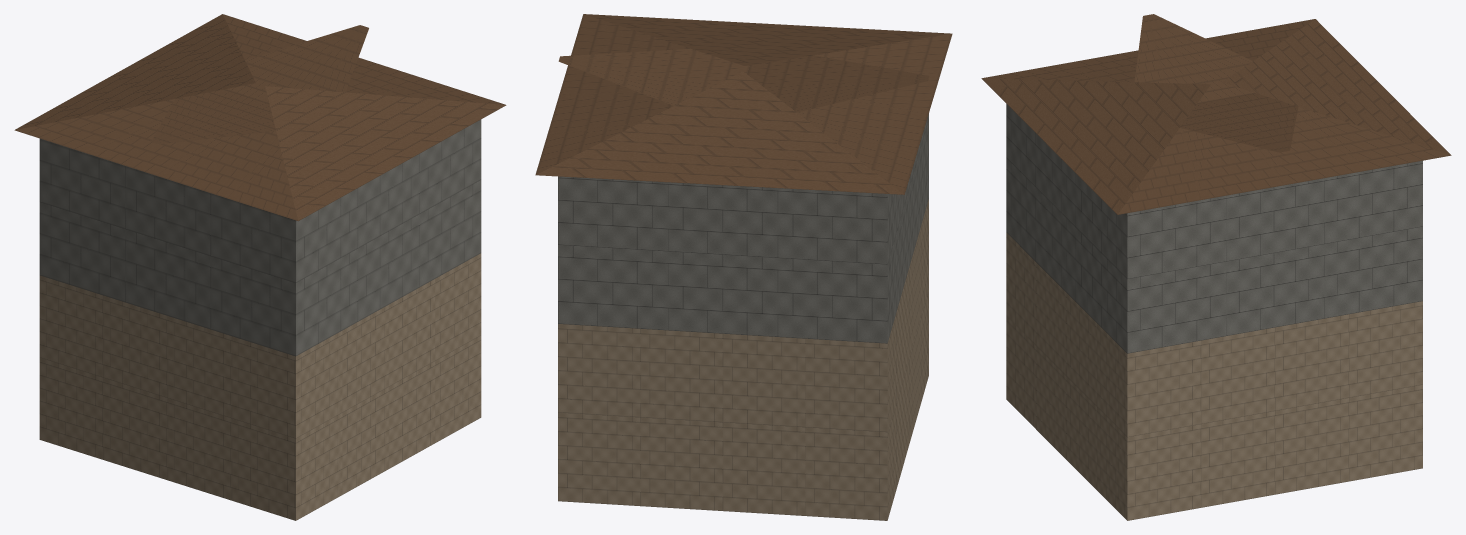
Rendered from bld_c40_32_293.gltf.
The picture shows the model from 3 angles, left to right: view 1: azimuth 30°, elevation 25°; view 2: azimuth 150°, elevation 25°; view 3: azimuth 270°, elevation 25°; orthographic projection. The views are drawn at different scales.
Parts seen in each view (by area): view 1: bld_c40_32_293; view 2: bld_c40_32_293; view 3: bld_c40_32_293.
Part boxes in pixels (x1,y1,x2,y2): bld_c40_32_293: (14,14,506,520); bld_c40_32_293: (535,14,952,520); bld_c40_32_293: (981,14,1451,520).
Bounding box in the file's own units: 12.51 × 10.4 × 12.67.
Materials: 3 (3 with a texture image).
